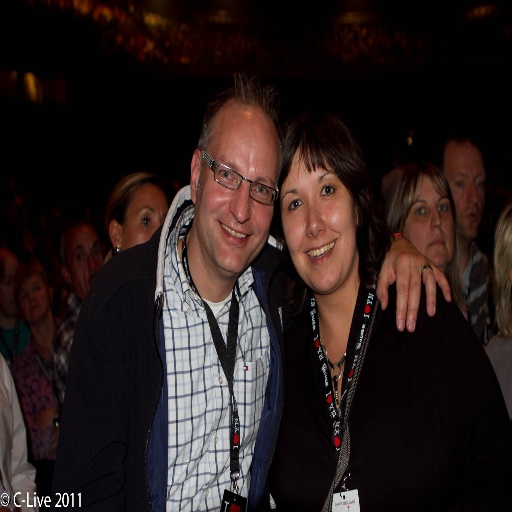hand: (383, 237, 457, 338), (31, 403, 57, 438)
